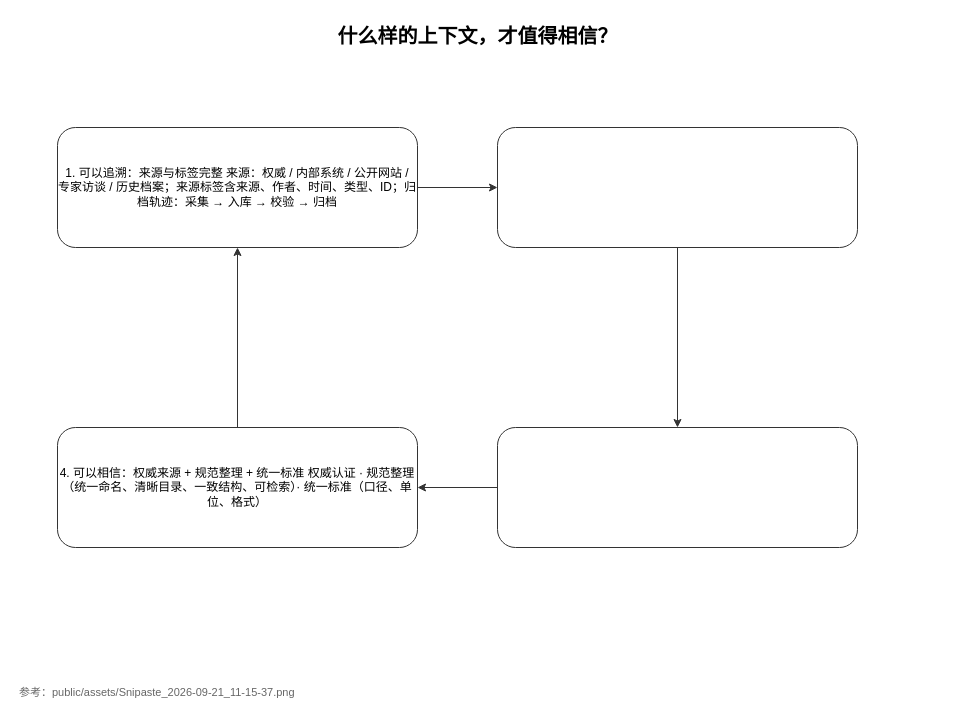
This 954x718 diagram has some shape labels left out. The centre of each missing label's shape, as x and y in pixels:
"2. 可以理解：完整、准确、不重复、不冲突 完整性检查（必要字段齐全）→ 清洗与补全 → 去重与合并 → 冲突解析（保留最佳版本）" goes at (677,187).
"3. 可以控制：来源评级、权限、版本可管 来源评级（权威至不可信五星）· 权限（管理员 / 编辑 / 只读）· 版本管理（v3.1 / v3.0 / v2.1）" goes at (677,487).
